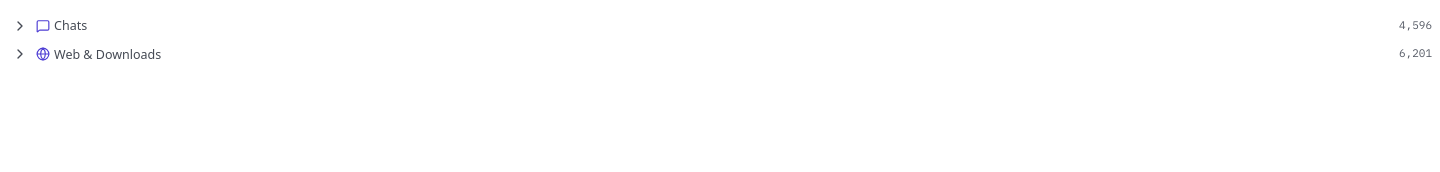
LogicalTree › shows categories with aggregated counts and expands to typed children
Expected: the link "Chats" is shown, [54,17,87,35]
Expected: the text "4,596" is shown, [1399,18,1432,32]
// Expand the first category (Chats) — children link into the records viewer.
Click the button named "Expand" next to "Chats".
click(20, 26)  # box [8,14,32,38]
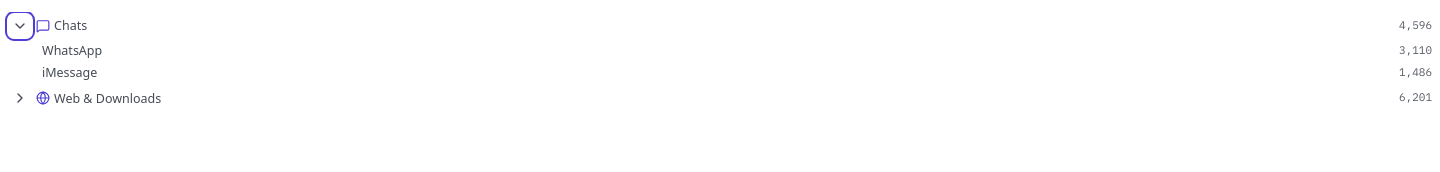
Expected: the link "iMessage" is shown, [42,64,97,82]
